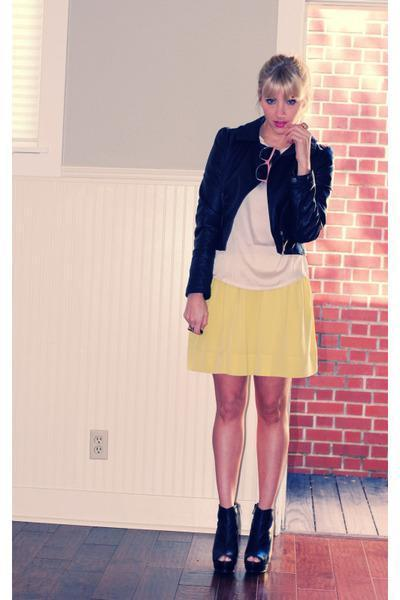jacket: (186, 116, 331, 299)
shirt: (213, 187, 308, 289)
shoe: (215, 504, 272, 552)
skirt: (188, 277, 317, 395)
